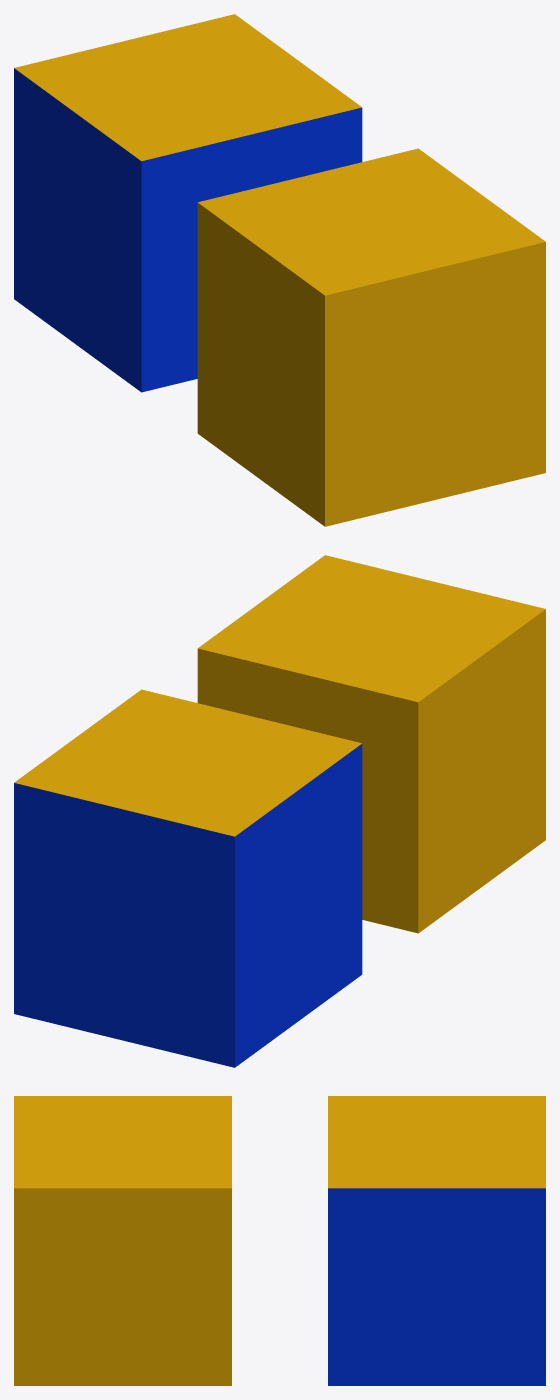
Rendered from cubo3.fbx.
The picture shows the model from 3 angles, top to bottom: view 1: azimuth 30°, elevation 25°; view 2: azimuth 150°, elevation 25°; view 3: azimuth 270°, elevation 25°; orthographic projection. The views are drawn at different scales.
Parts seen in each view (by area): view 1: Cube.001, Cube; view 2: Cube, Cube.001; view 3: Cube, Cube.001.
Part boxes in pixels (left/top/right/bottom): Cube.001: left=197, top=148, right=545, bottom=526; Cube: left=14, top=14, right=362, bottom=392; Cube: left=14, top=689, right=362, bottom=1067; Cube.001: left=197, top=555, right=545, bottom=933; Cube: left=328, top=1096, right=545, bottom=1385; Cube.001: left=14, top=1096, right=231, bottom=1385.
Size of the model in its own units: 200 by 200 by 488.
